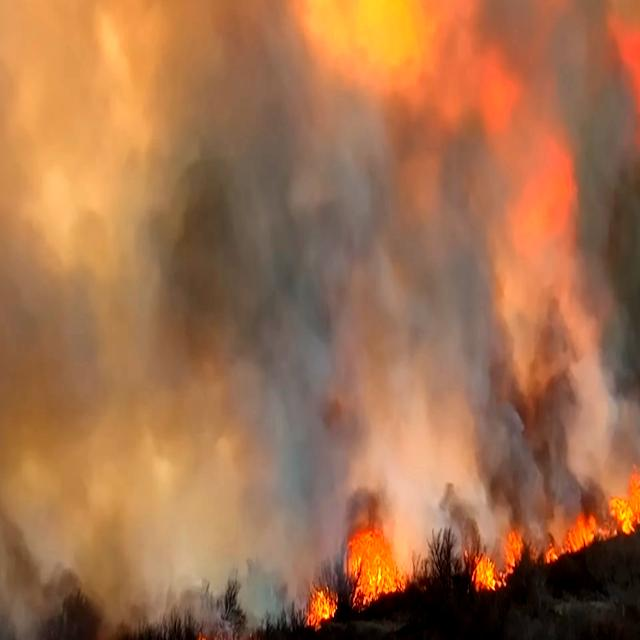fire: (311, 513, 400, 640), (560, 451, 640, 574)
smoke: (21, 0, 397, 469), (517, 0, 640, 405)
